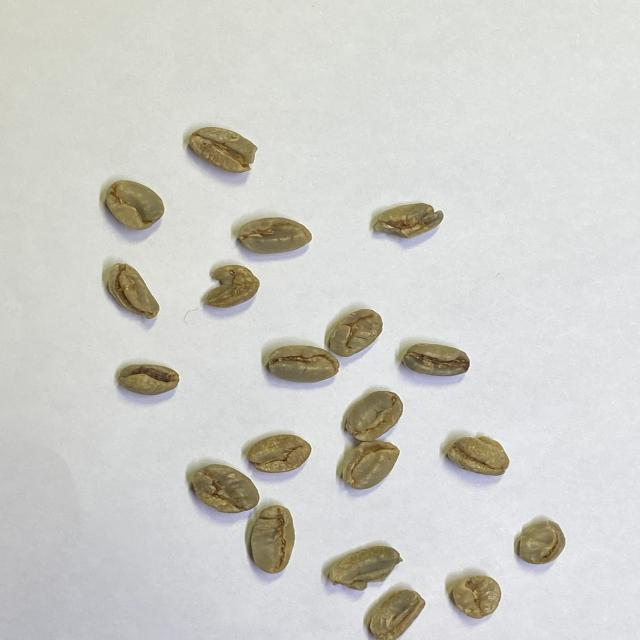bad: (190, 462, 262, 516), (328, 543, 406, 592), (188, 124, 260, 176), (248, 503, 298, 576), (102, 178, 168, 233), (104, 261, 161, 321), (344, 389, 406, 443), (340, 439, 402, 493), (372, 198, 447, 242), (237, 216, 314, 258), (265, 343, 342, 385), (366, 587, 427, 640), (245, 432, 314, 476), (328, 308, 385, 360), (202, 263, 263, 311), (446, 434, 512, 478), (401, 340, 471, 380), (515, 518, 568, 568), (449, 574, 505, 621), (116, 360, 181, 398)
